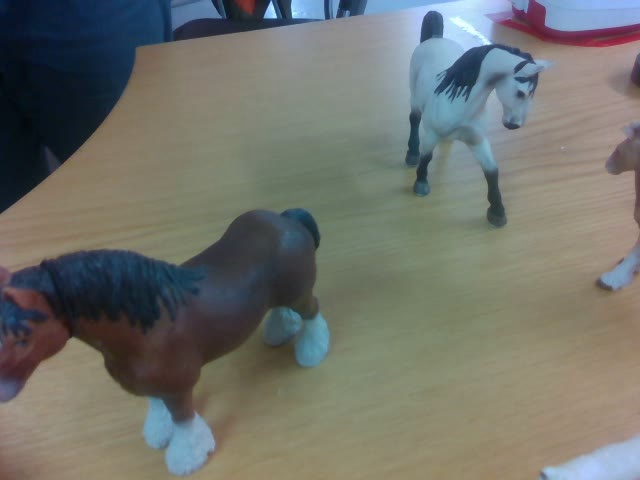toy: (1, 209, 331, 477), (404, 8, 553, 226)
